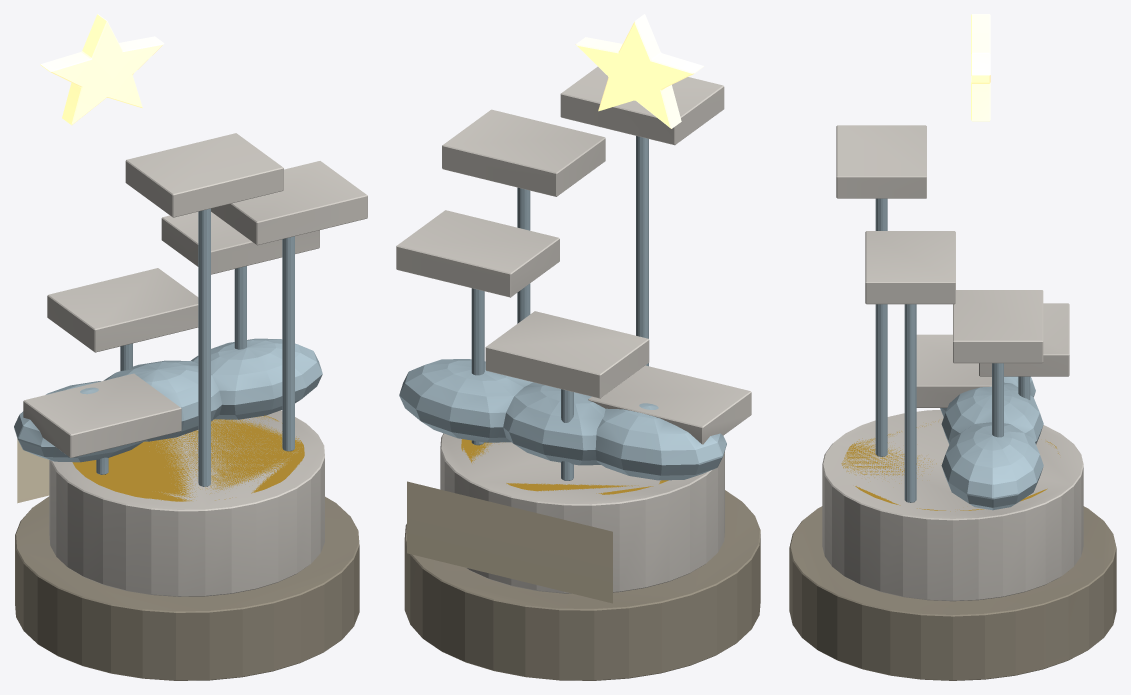
Rendered from trophy_sky.glb.
3 renders of one model, left to right at view 1: azimuth 30°, elevation 25°; view 2: azimuth 150°, elevation 25°; view 3: azimuth 270°, elevation 25°, orthographic. The views are drawn at different scales.
Visible parts, largest first — view 1: common_pedestal, symbol, trophy_plate; view 2: symbol, common_pedestal, trophy_plate; view 3: common_pedestal, symbol.
Boxes of the visible parts, x1,y1,x2,y2 form: common_pedestal: (15, 410, 359, 680); symbol: (14, 14, 367, 486); trophy_plate: (17, 439, 49, 503); symbol: (396, 14, 751, 480); common_pedestal: (404, 433, 760, 680); trophy_plate: (407, 481, 612, 603); common_pedestal: (789, 410, 1116, 680); symbol: (836, 14, 1069, 510).
Size of the model in its own units: 0.9159 by 1.72 by 0.9.
